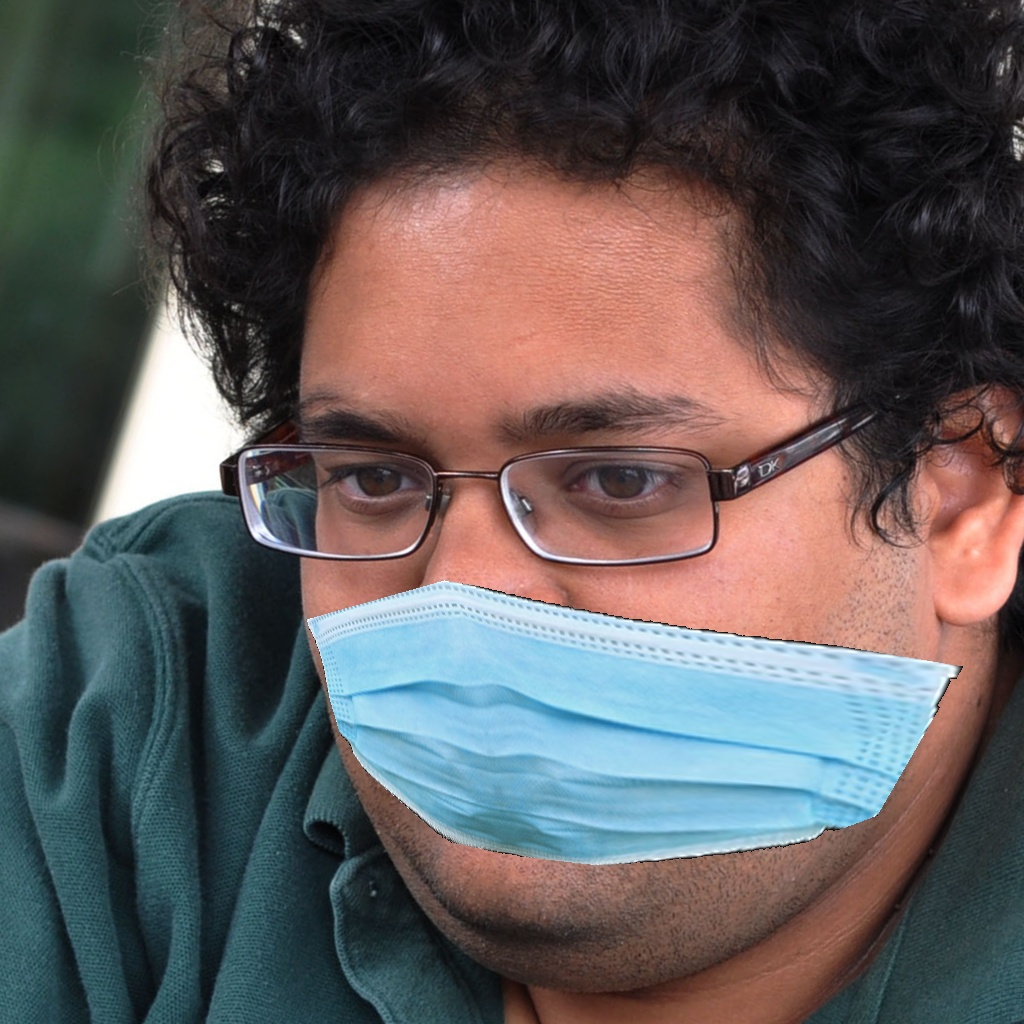mascarilla_mal_puesta: (218, 345, 1024, 943)
